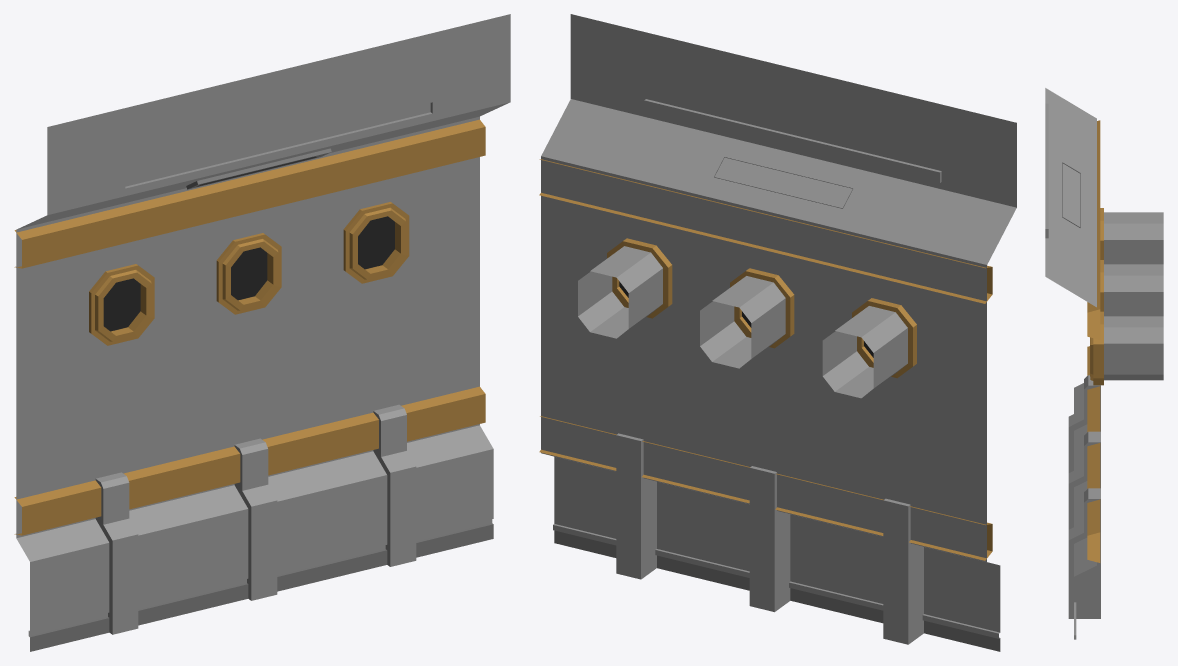
Rendered from smallwindows-wall-sidea-a1d5590595.glb.
3 views of the same model, side by side, from view 1: azimuth 30°, elevation 25°; view 2: azimuth 150°, elevation 25°; view 3: azimuth 270°, elevation 25° (orthographic). The views are drawn at different scales.
Visible parts, largest first — view 1: SmallWindows_Wall_SideA.obj; view 2: SmallWindows_Wall_SideA.obj; view 3: SmallWindows_Wall_SideA.obj.
Boxes of the visible parts, x1,y1,x2,y2 form: SmallWindows_Wall_SideA.obj: [14, 14, 510, 651]; SmallWindows_Wall_SideA.obj: [539, 14, 1016, 651]; SmallWindows_Wall_SideA.obj: [1045, 88, 1163, 639].
Bounding box in the file's own units: 4 × 4.43 × 1.06.
